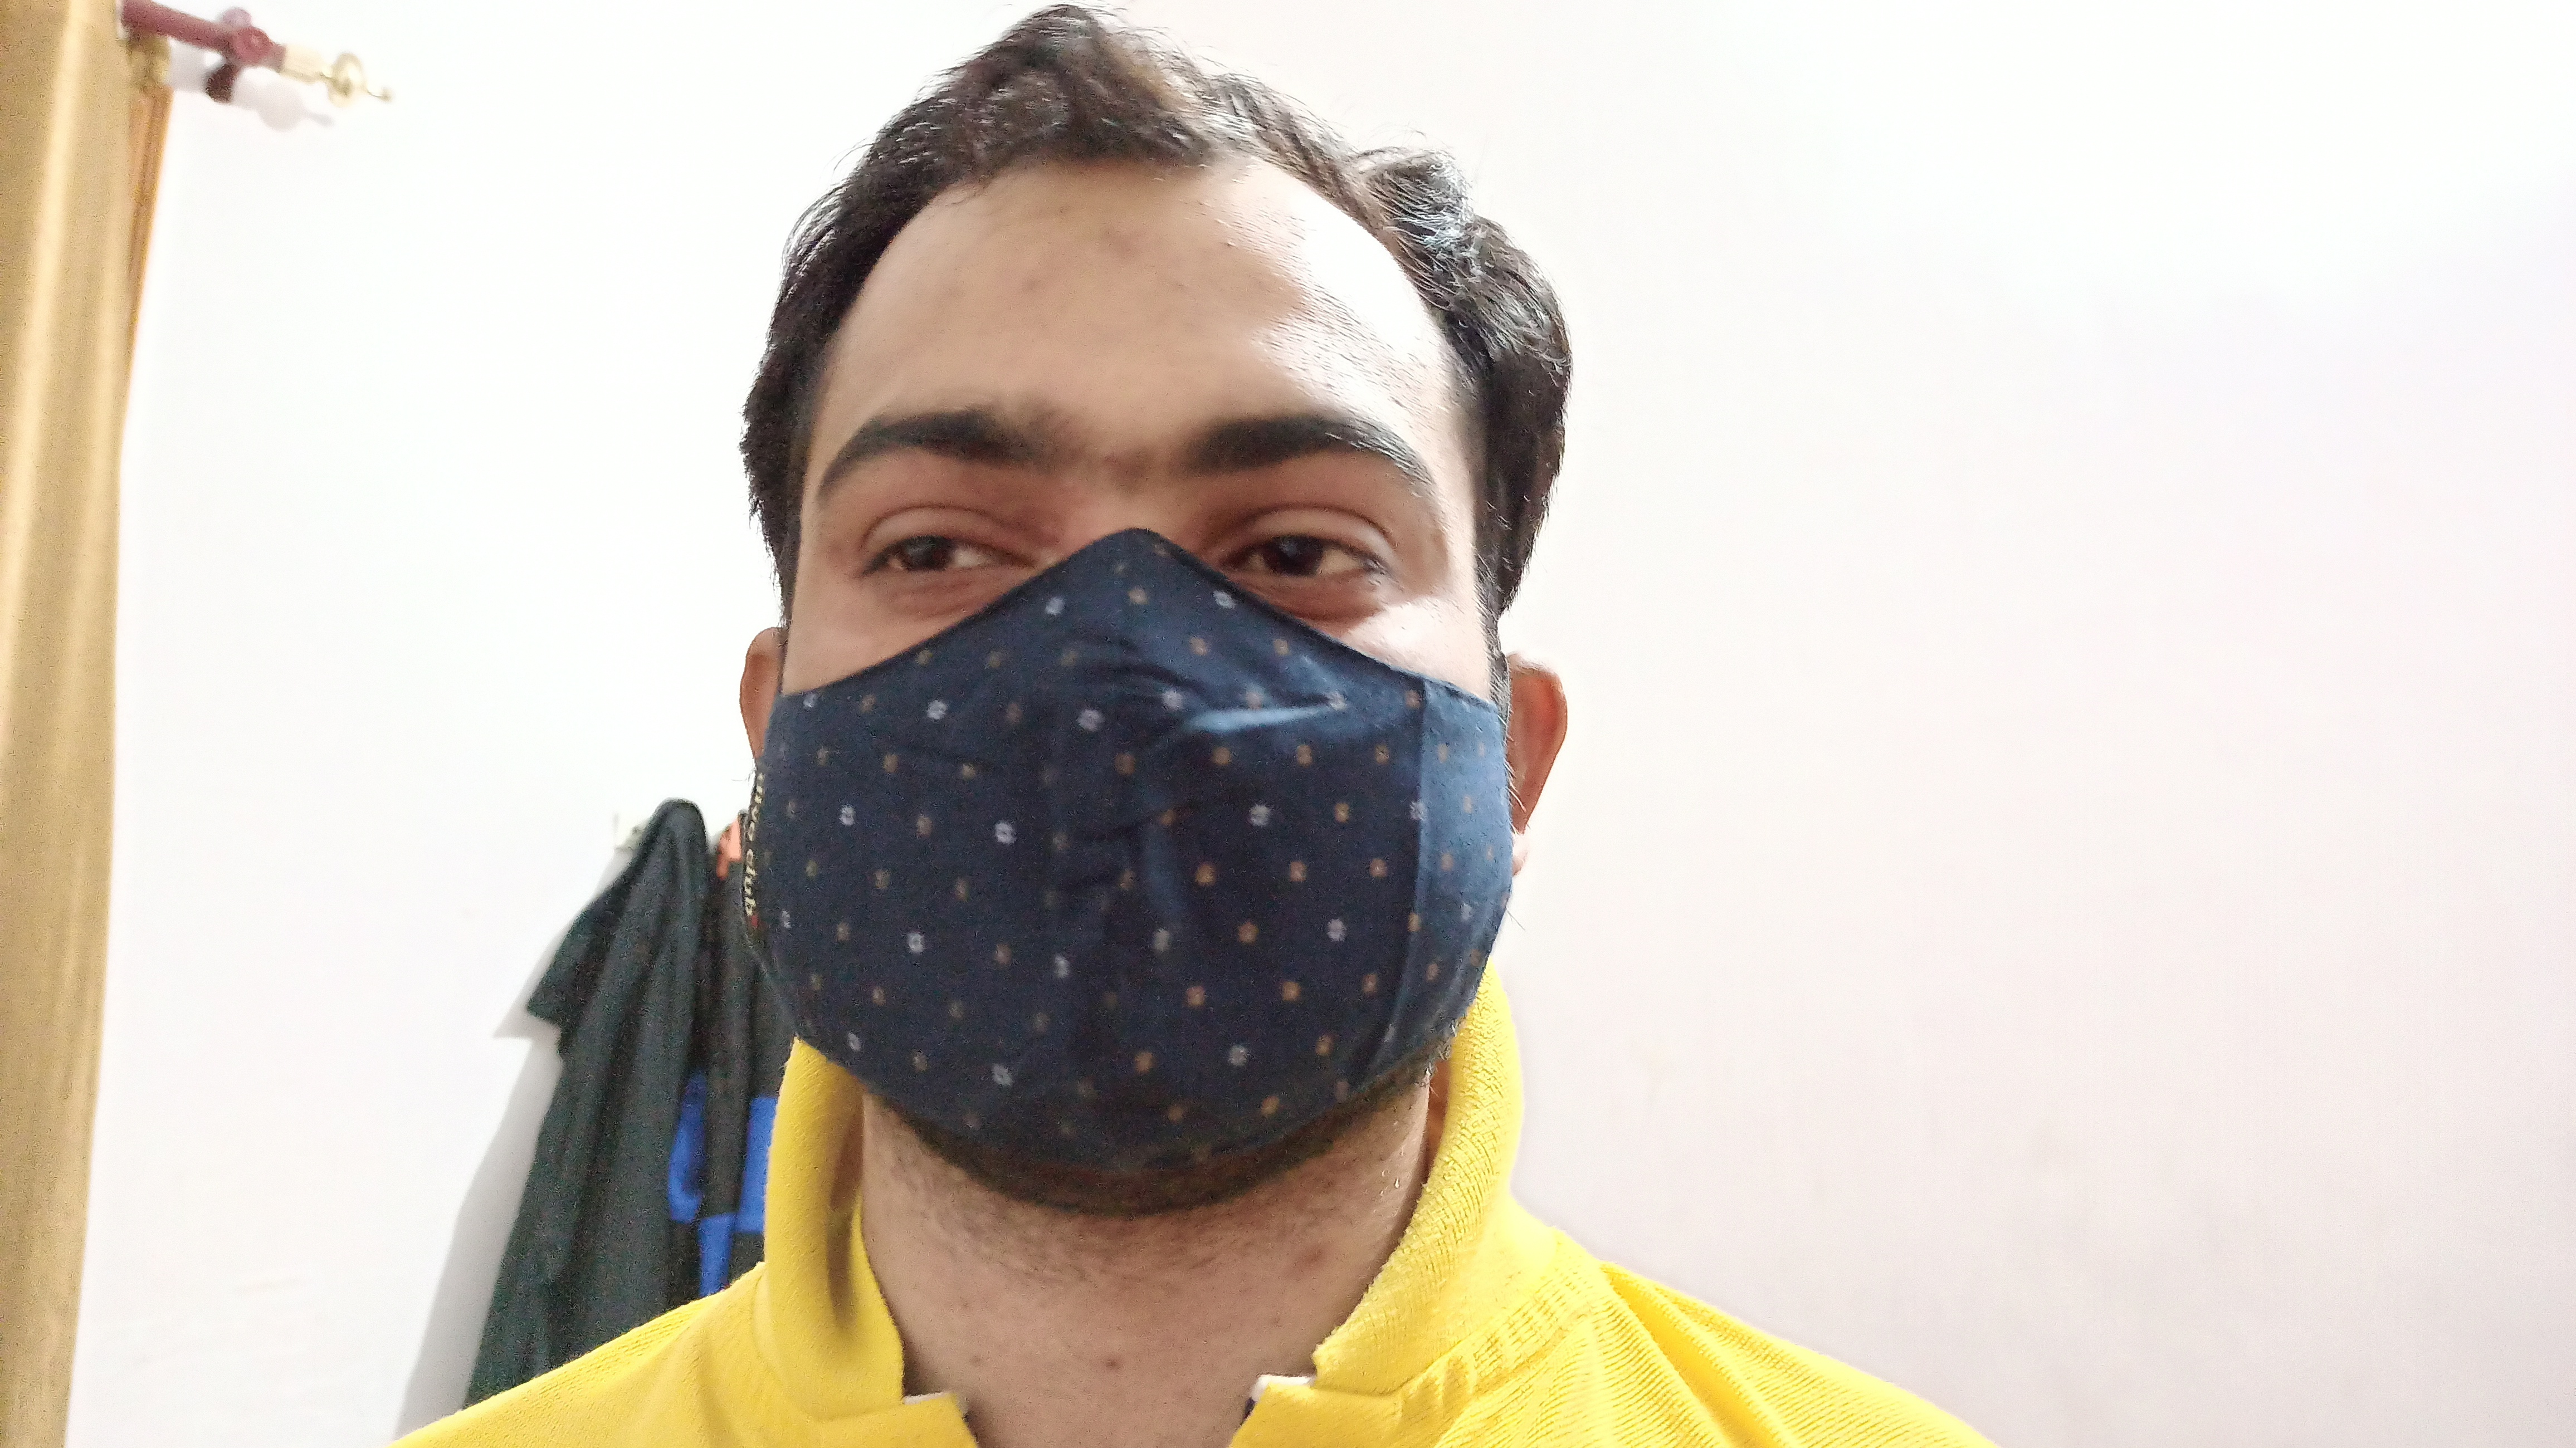Mask: (701, 569, 1578, 1227)
